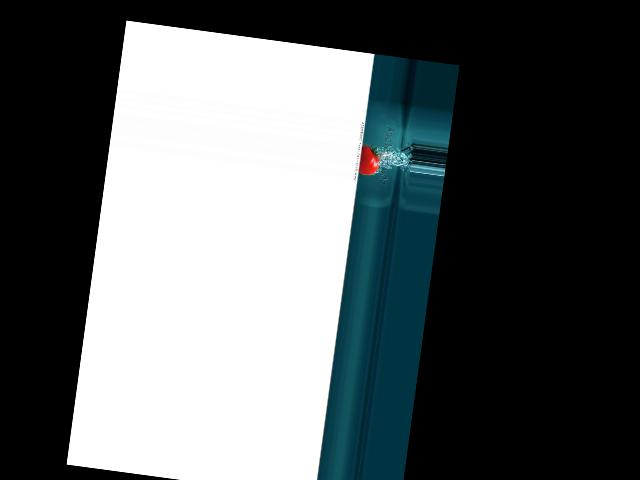tomato: (358, 144, 381, 176)
